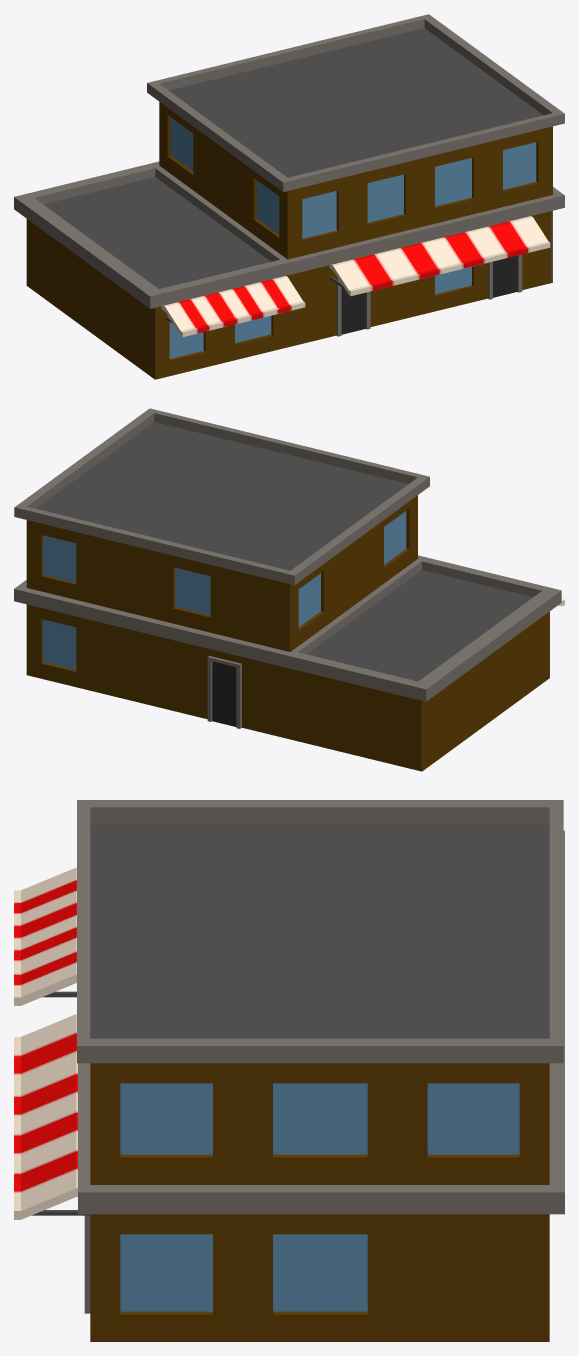
Rendered from CityBuilding06.glb.
3 renders of one model, top to bottom at view 1: azimuth 30°, elevation 25°; view 2: azimuth 150°, elevation 25°; view 3: azimuth 270°, elevation 25°, orthographic. The views are drawn at different scales.
Visible parts, largest first — view 1: CityBuilding06; view 2: CityBuilding06; view 3: CityBuilding06.
Boxes of the visible parts, bbox=[...] form: CityBuilding06: bbox=[14, 14, 564, 379]; CityBuilding06: bbox=[14, 408, 564, 771]; CityBuilding06: bbox=[14, 800, 564, 1341].
Size of what is drawn, in the model's own units: 12.81 by 5.01 by 8.24.
1 material, 1 textured.
